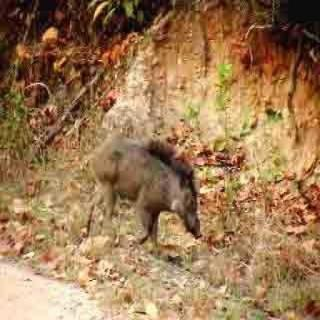Pig: (80, 117, 228, 250)
